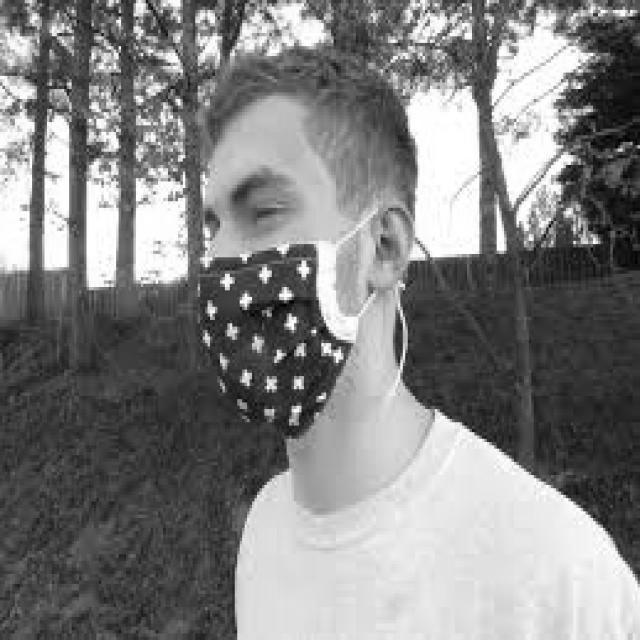fake: (197, 240, 403, 436)
real: (193, 103, 375, 444)
